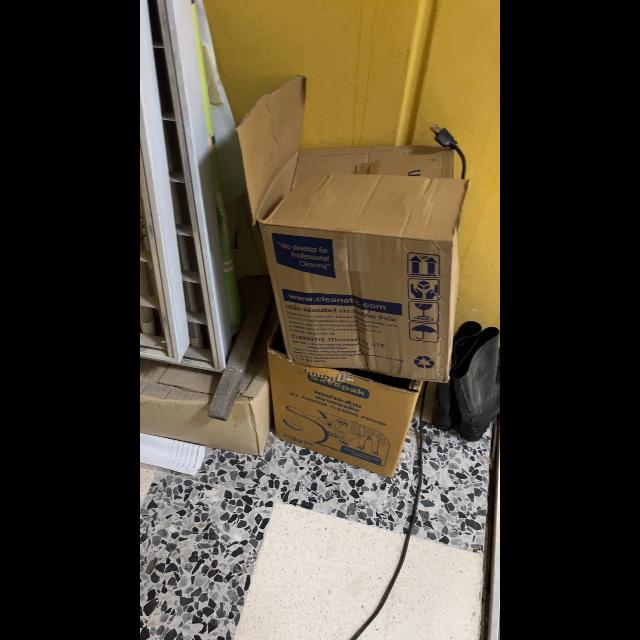cardboard_box: (233, 80, 473, 382), (264, 319, 428, 471)
